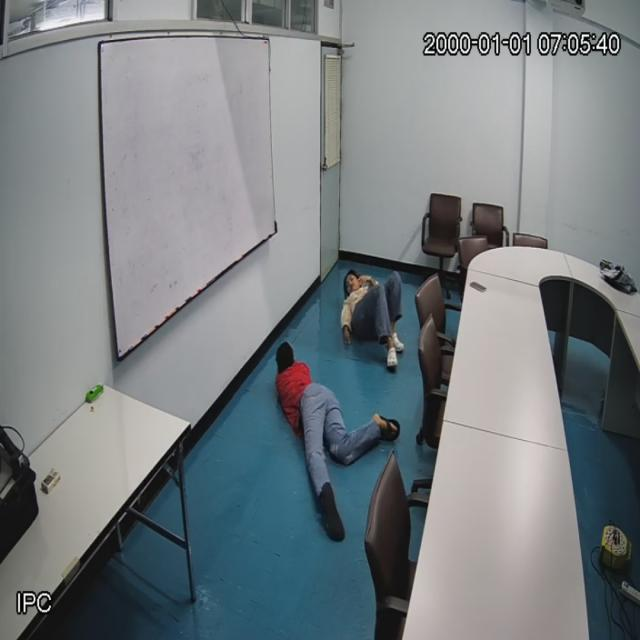fall: (271, 340, 395, 542), (335, 258, 408, 370)
